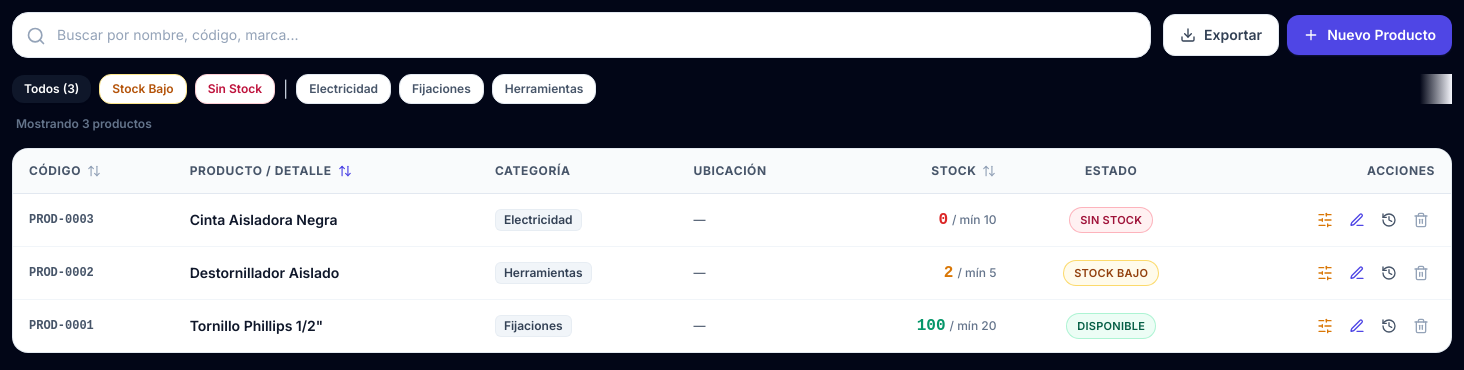
Test: ProductsView Component › filtra productos por texto de búsqueda dinámico
Type "cinta" into the field with placeholder "Buscar por nombre, código, marca..." at {"x": 582, "y": 35}, box [12,12,1151,58]
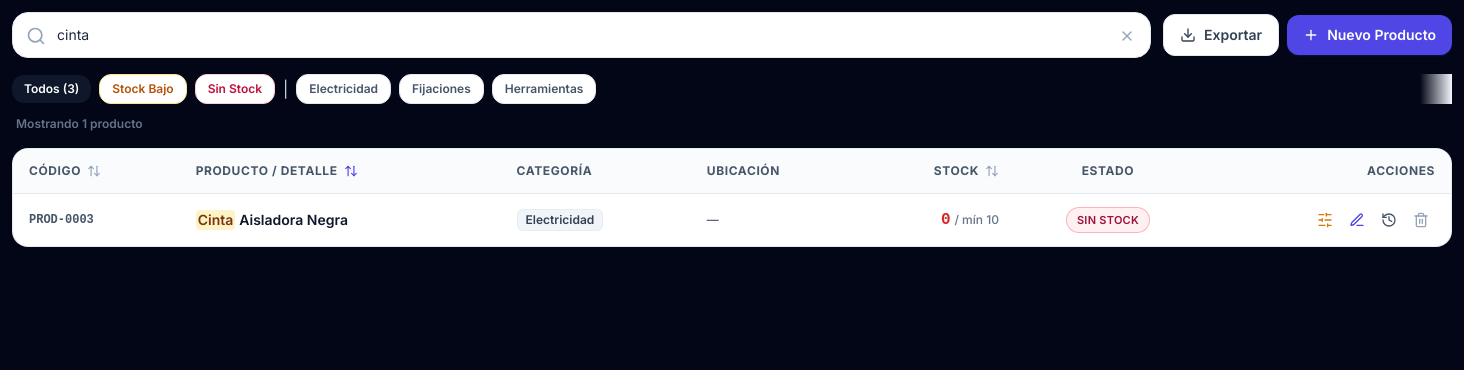
Expected: the text "PROD-0003" is shown, [13,194,180,246]
Result: the text "Mostrando 1 producto" is shown at [16,116,143,131]
Result: the text "Tornillo Phillips" is gone
